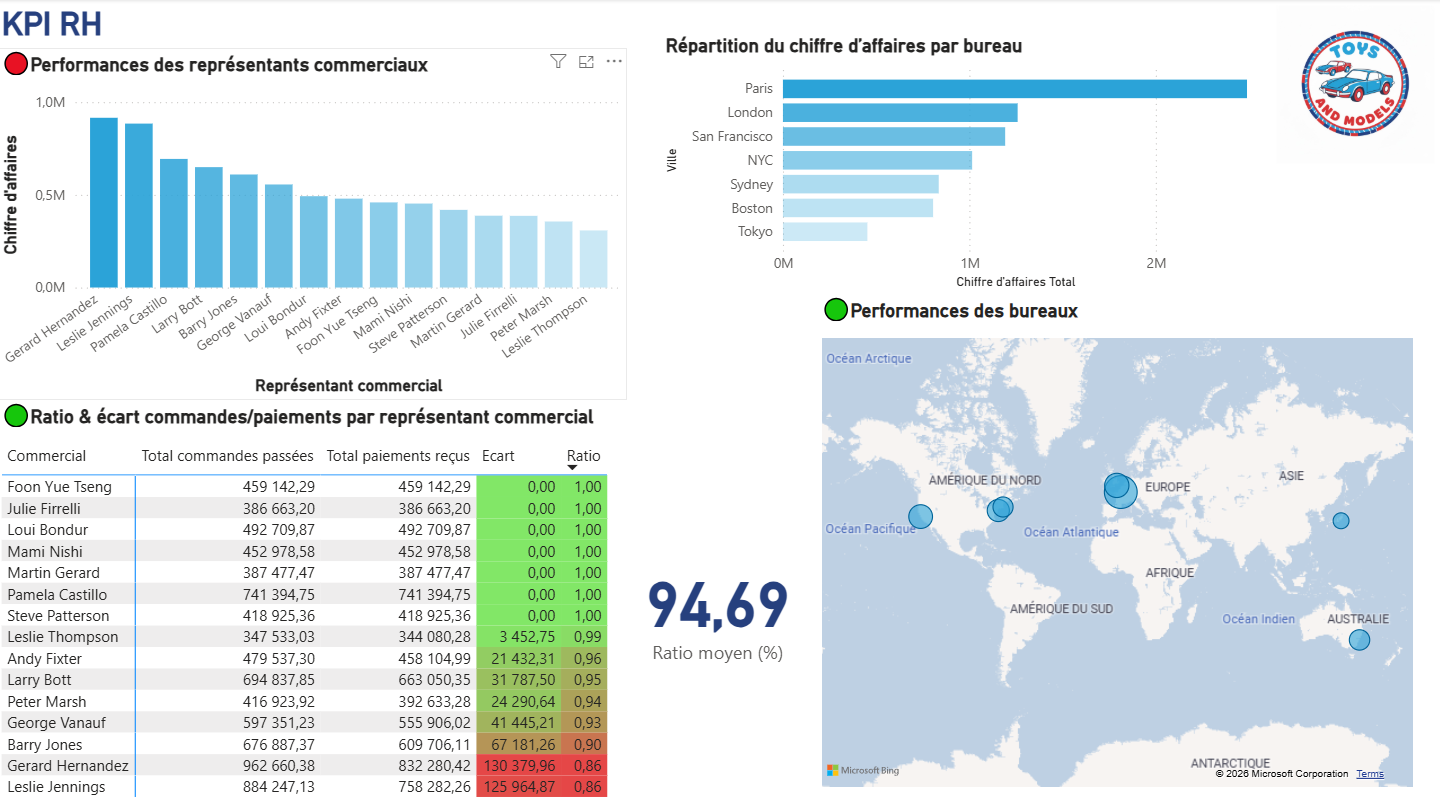

The page's visual inventory and layout, read from the dashboard file:
{"tool":"powerbi","page":{"name":"RH","canvas":[1280,720],"ordinal":0},"visuals":[{"type":"textbox","box":[0,0,110.4,42.6],"z":0},{"type":"columnChart","title":"🔴Performances des représentants commerciaux","fields":{"Y":["Sum(Perf_rep_comm.chiffre_affaires)"],"Category":["Perf_rep_comm.commercial"]},"box":[0,43.6,559.9,312.4],"z":1},{"type":"clusteredBarChart","title":"Répartition du chiffre d’affaires par bureau","fields":{"Category":["Perf_Bureaux2.ville"],"Y":["Sum(Perf_rep_comm.chiffre_affaires)"]},"box":[588.7,31,541.2,230.4],"z":2},{"type":"image","box":[1130.2,0,149.8,152.7],"z":3},{"type":"map","title":"🟢Performances des bureaux","fields":{"Category":["Perf_Bureaux2.ville"],"Size":["Sum(Perf_rep_comm.chiffre_affaires)"]},"box":[727.1,261.6,533.8,442.5],"z":4},{"type":"pivotTable","title":"🟢Ratio & écart commandes/paiements par représentant commercial","fields":{"Rows":["ratio & ecart commandes/paiements.commercial"],"Values":["Sum(ratio & ecart commandes/paiements.total_commandes)","Sum(ratio & ecart commandes/paiements.total_paiements)","Sum(ratio & ecart commandes/paiements.ecart)","Sum(ratio & ecart commandes/paiements.ratio_paiement)"]},"box":[0,355.9,564.9,364.1],"z":5},{"type":"card","fields":{"Values":["FACT_SALES.Ratio moyen (%)"]},"box":[564.9,482.8,150.1,116.6],"z":6}]}

Visuals, with their boxes in screenshot pixels (x1, y1, x2, y2), scaled from the page's 1280x720 canvas onto the 1440x807 screenshot:
textbox: x1=0 y1=0 x2=124 y2=48
"🔴Performances des représentants commerciaux" columnChart: x1=0 y1=49 x2=630 y2=399
"Répartition du chiffre d’affaires par bureau" clusteredBarChart: x1=662 y1=35 x2=1271 y2=293
image: x1=1271 y1=0 x2=1439 y2=171
"🟢Performances des bureaux" map: x1=818 y1=293 x2=1419 y2=789
"🟢Ratio & écart commandes/paiements par représentant commercial" pivotTable: x1=0 y1=399 x2=636 y2=806
card - FACT_SALES.Ratio moyen (%): x1=636 y1=541 x2=804 y2=672
